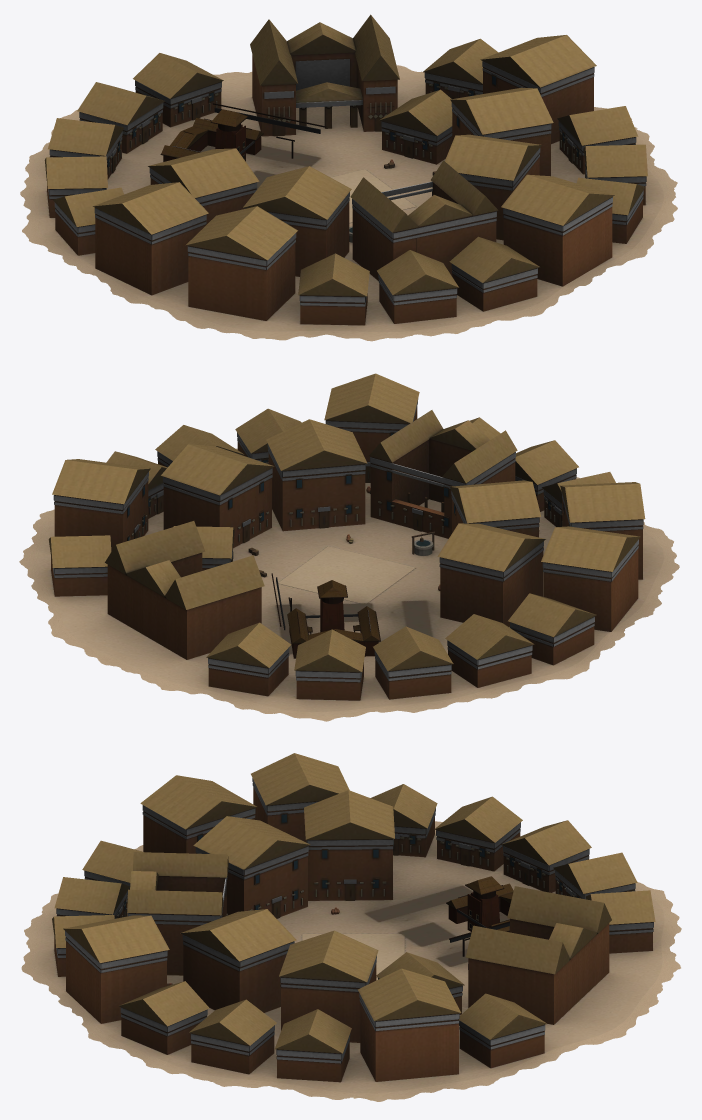
Rendered from kingdoms-town-big-b-westafrica-d82ef761.glb.
3 views of the same model, one above another, from view 1: azimuth 30°, elevation 25°; view 2: azimuth 150°, elevation 25°; view 3: azimuth 270°, elevation 25° (orthographic).
Parts seen in each view (by area): view 1: LOD0; view 2: LOD0; view 3: LOD0.
Boxes of the visible parts, left/top/right/bottom form: LOD0: left=20, top=14, right=677, bottom=341; LOD0: left=19, top=373, right=679, bottom=721; LOD0: left=21, top=753, right=681, bottom=1101.
Size of what is drawn, in the model's own units: 7.99 by 1.05 by 7.91.
3 materials, 3 textured.
